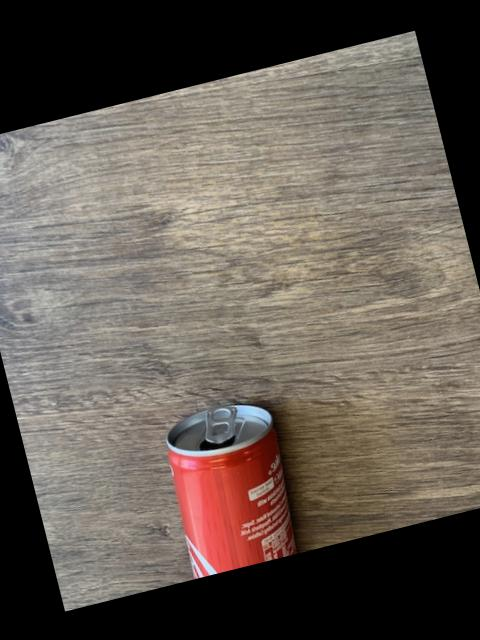metal: (169, 405, 297, 578)
